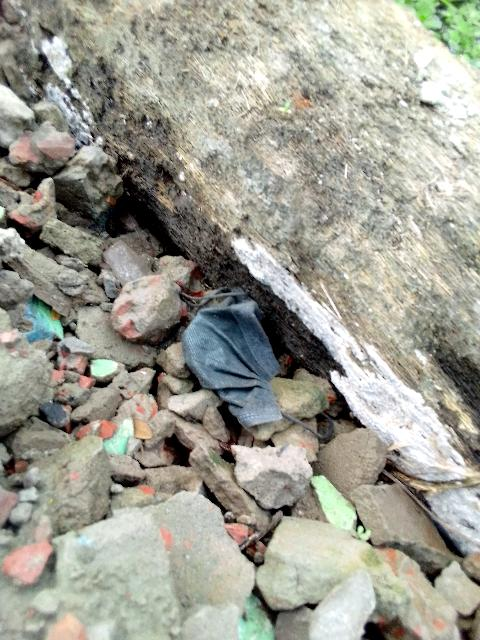mask: (176, 288, 289, 437)
